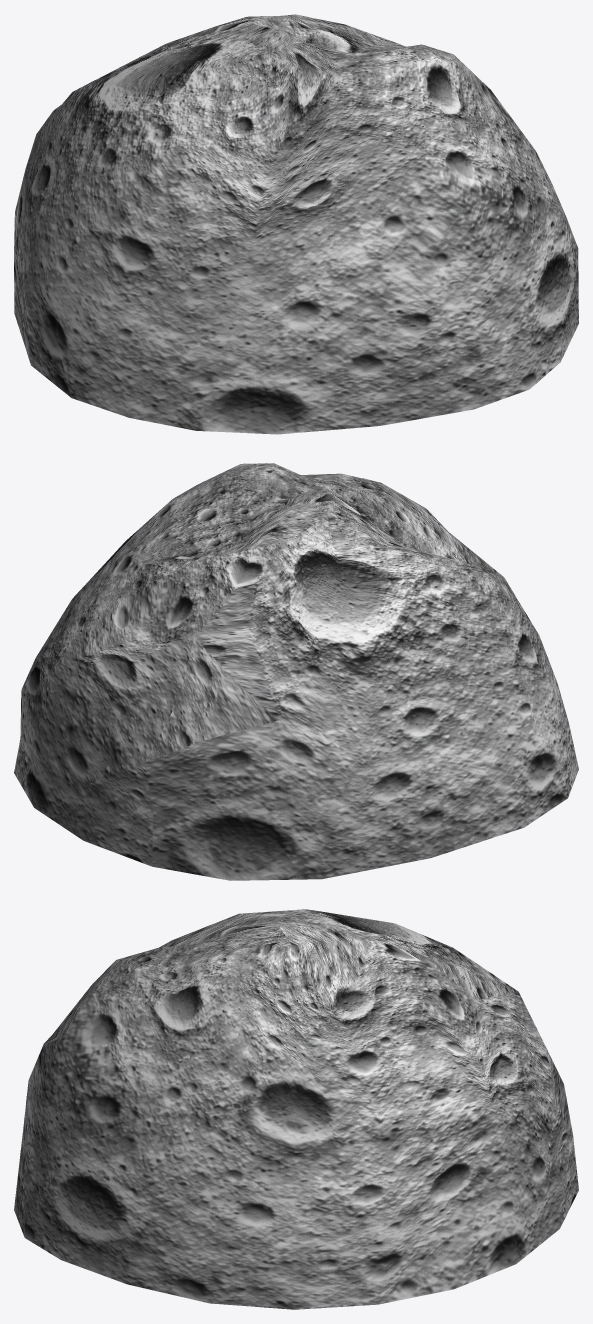
File: Moon_Block.fbx
3 views of the same model, one above another, from view 1: azimuth 30°, elevation 25°; view 2: azimuth 150°, elevation 25°; view 3: azimuth 270°, elevation 25° (orthographic). The views are drawn at different scales.
Parts seen in each view (by area): view 1: Moon_Block; view 2: Moon_Block; view 3: Moon_Block.
Part boxes in pixels (x1,y1,x2,y2): Moon_Block: (14, 14, 578, 434); Moon_Block: (14, 463, 578, 880); Moon_Block: (14, 909, 578, 1309).
Size of the model in its own units: 3.8 by 1.95 by 3.78.
